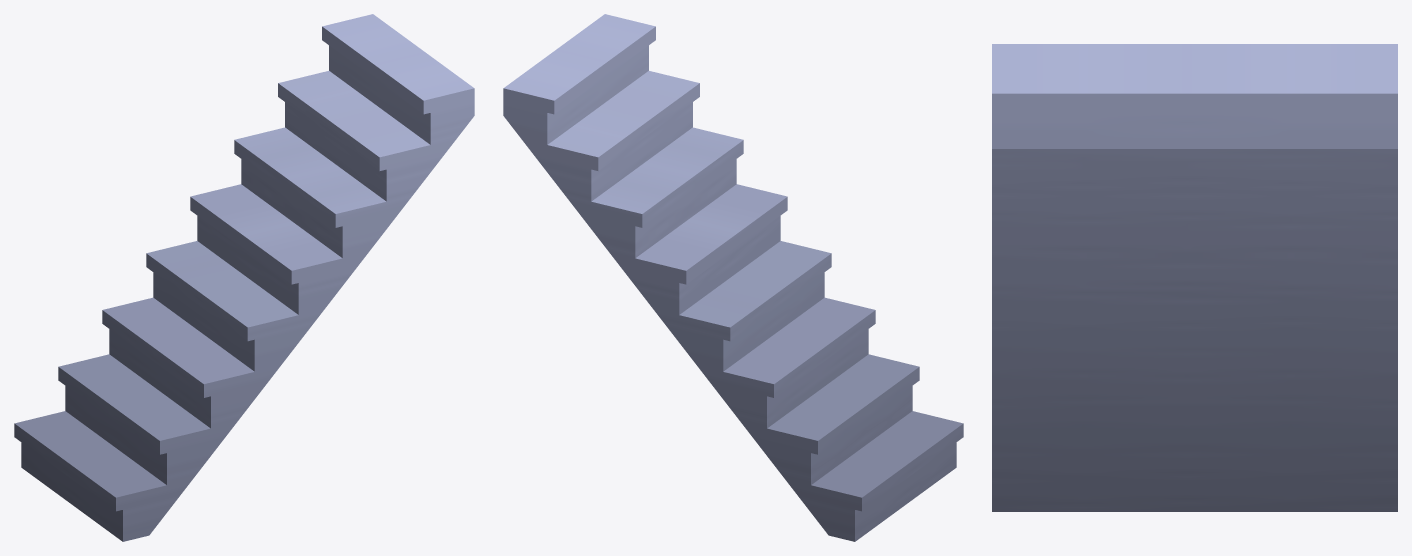
Rendered from stairsStone.fbx.
The picture shows the model from 3 angles, left to right: view 1: azimuth 30°, elevation 25°; view 2: azimuth 150°, elevation 25°; view 3: azimuth 270°, elevation 25°; orthographic projection. The views are drawn at different scales.
Visible parts, largest first — view 1: stairsStone; view 2: stairsStone; view 3: stairsStone.
Boxes of the visible parts, bbox=[...] form: stairsStone: bbox=[14, 14, 474, 541]; stairsStone: bbox=[503, 14, 963, 541]; stairsStone: bbox=[992, 44, 1397, 511].
Bounding box in the file's own units: 1.02 × 0.5 × 1.
